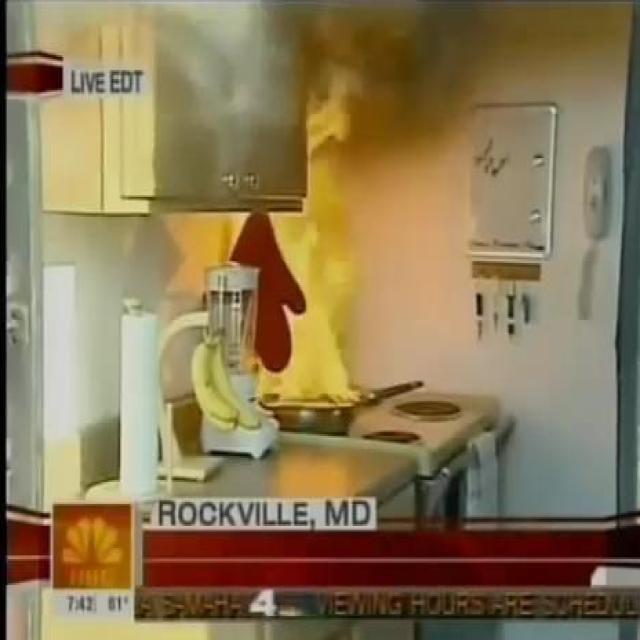fire: (175, 2, 304, 160)
smoke: (238, 78, 370, 409)
